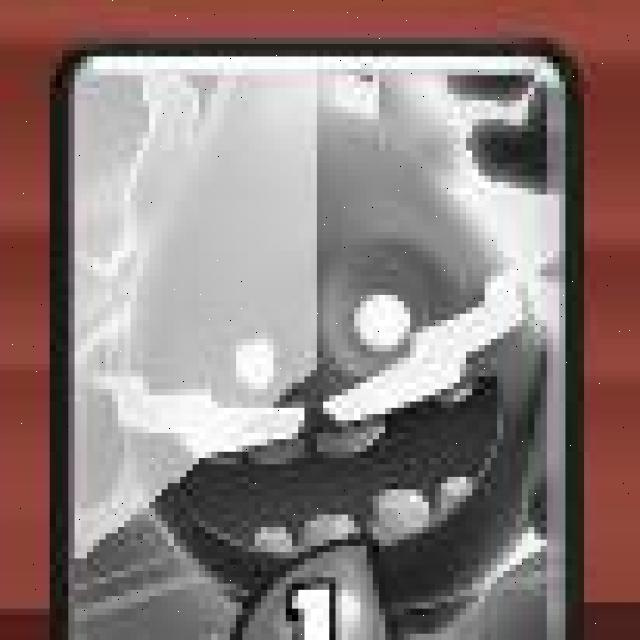Electro_Spirit: (49, 43, 585, 640)
